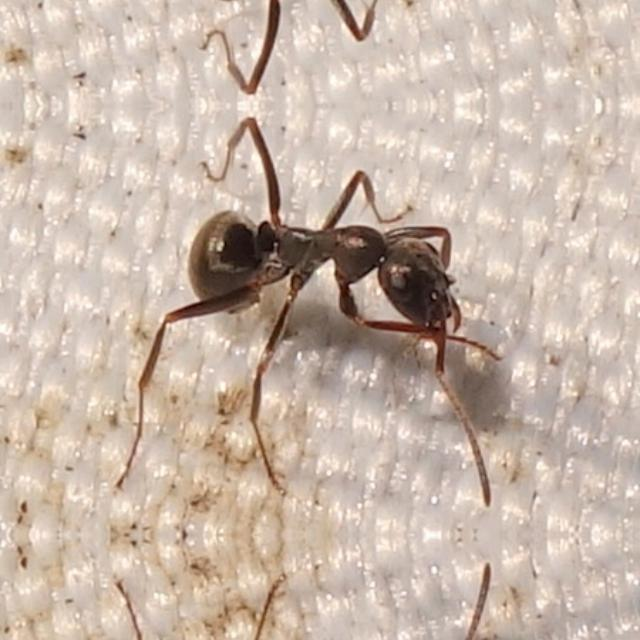Formica: (172, 177, 524, 389)
